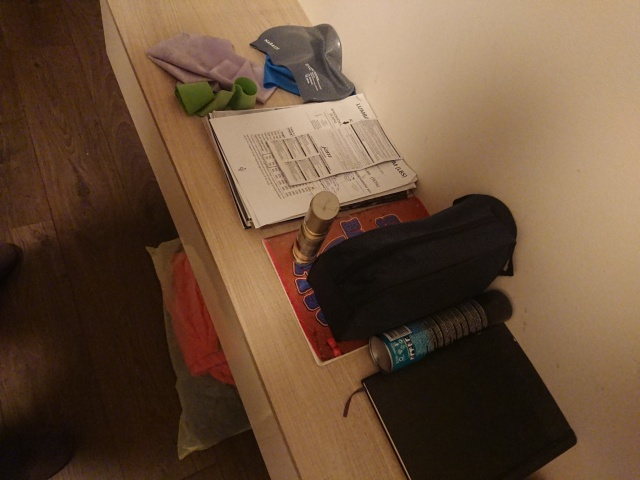Kotanyi Garlic Granules 70g: (289, 188, 342, 268)
